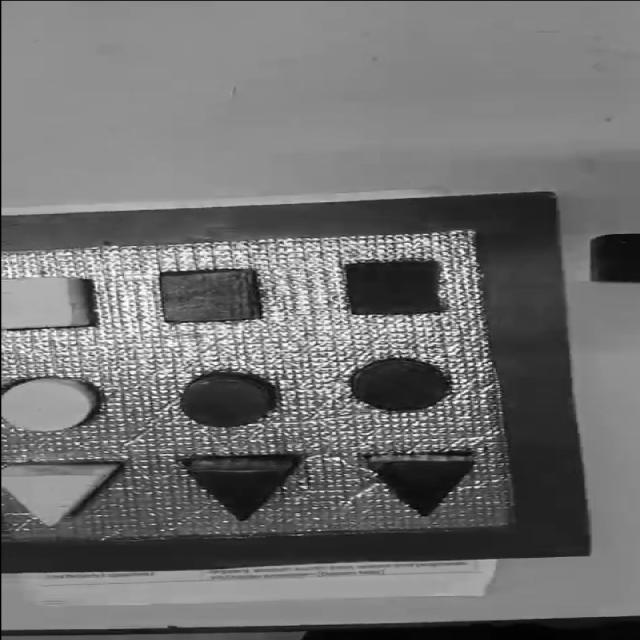bcircle: (347, 358, 450, 412)
bcube: (588, 233, 639, 285)
btriangle: (361, 450, 476, 516)
mtcube: (339, 258, 447, 316)
rcircle: (174, 371, 283, 430)
rcube: (157, 268, 261, 324)
rtriangle: (182, 454, 298, 519)
wb: (0, 232, 514, 544)
ycircle: (0, 373, 101, 434)
ycube: (0, 275, 96, 331)
ytriangle: (0, 460, 115, 525)
